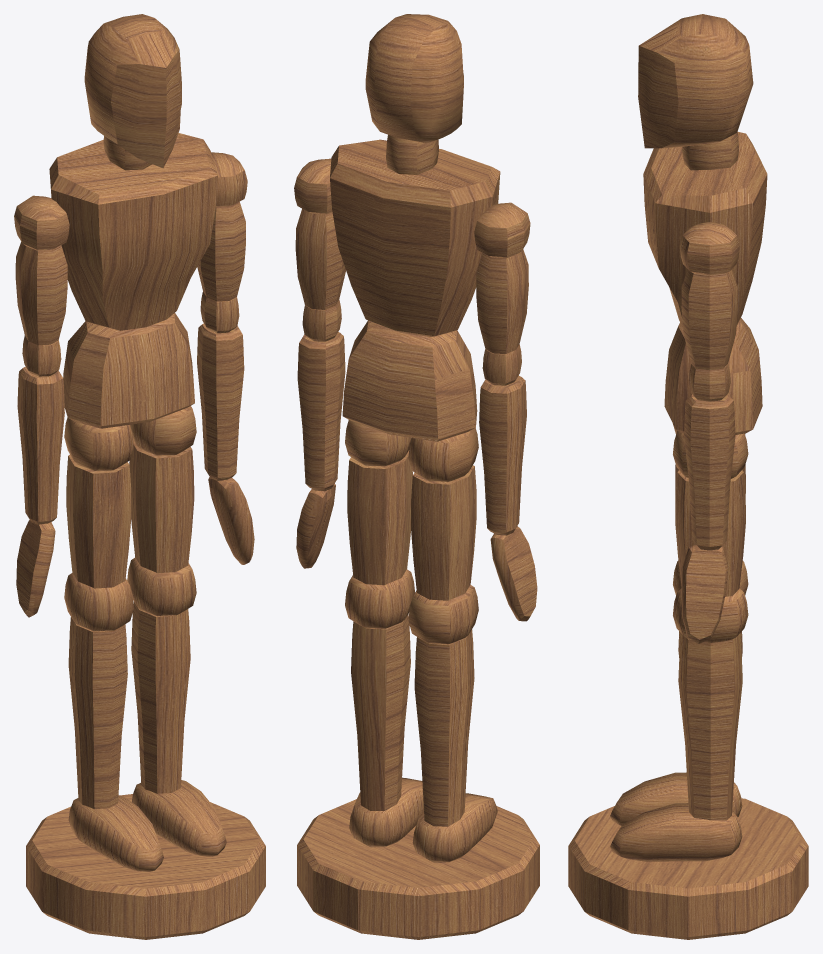
File: SM_mannequin_04.fbx
3 renders of one model, left to right at view 1: azimuth 30°, elevation 25°; view 2: azimuth 150°, elevation 25°; view 3: azimuth 270°, elevation 25°, orthographic.
Visible parts, largest first — view 1: mannequin03; view 2: mannequin03; view 3: mannequin03.
Boxes of the visible parts, <box> form: mannequin03: <box>14,14,265,939</box>; mannequin03: <box>294,14,539,939</box>; mannequin03: <box>568,14,808,939</box>.
Bounding box in the file's own units: 4.59 × 16.93 × 4.24.
1 material, 1 textured.
